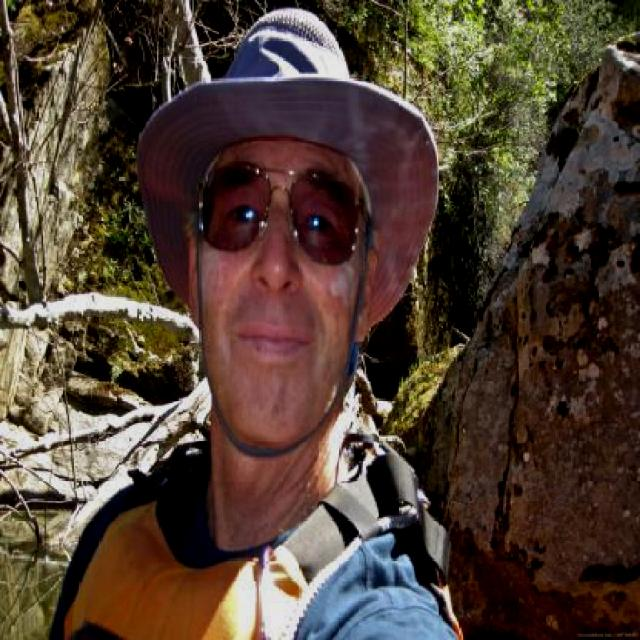face_nomask: (208, 162, 361, 386)
glasses: (178, 158, 370, 267)
head_nohelmet: (157, 19, 400, 178)
